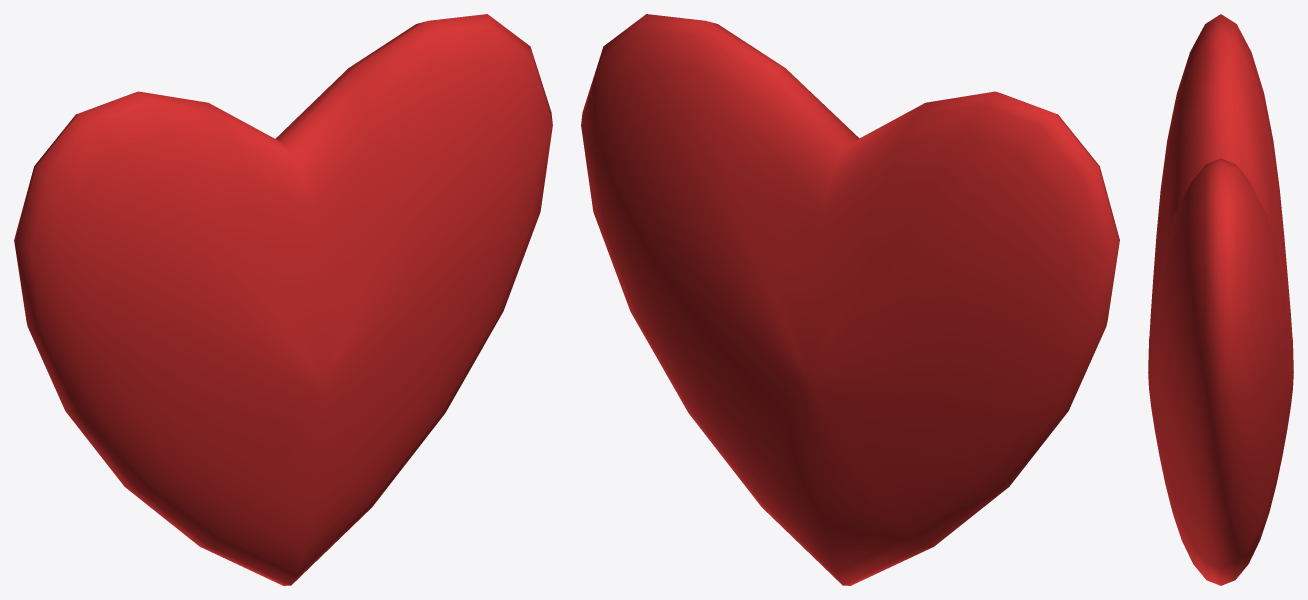
The model's file is heart.fbx.
The picture shows the model from 3 angles, left to right: view 1: azimuth 30°, elevation 25°; view 2: azimuth 150°, elevation 25°; view 3: azimuth 270°, elevation 25°; orthographic projection. The views are drawn at different scales.
Parts seen in each view (by area): view 1: pSphere1; view 2: pSphere1; view 3: pSphere1.
Part boxes in pixels (x1,y1,x2,y2): pSphere1: (14, 14, 552, 585); pSphere1: (581, 14, 1119, 585); pSphere1: (1148, 14, 1293, 585).
Size of the model in its own units: 7.64 by 7.21 by 1.95.
